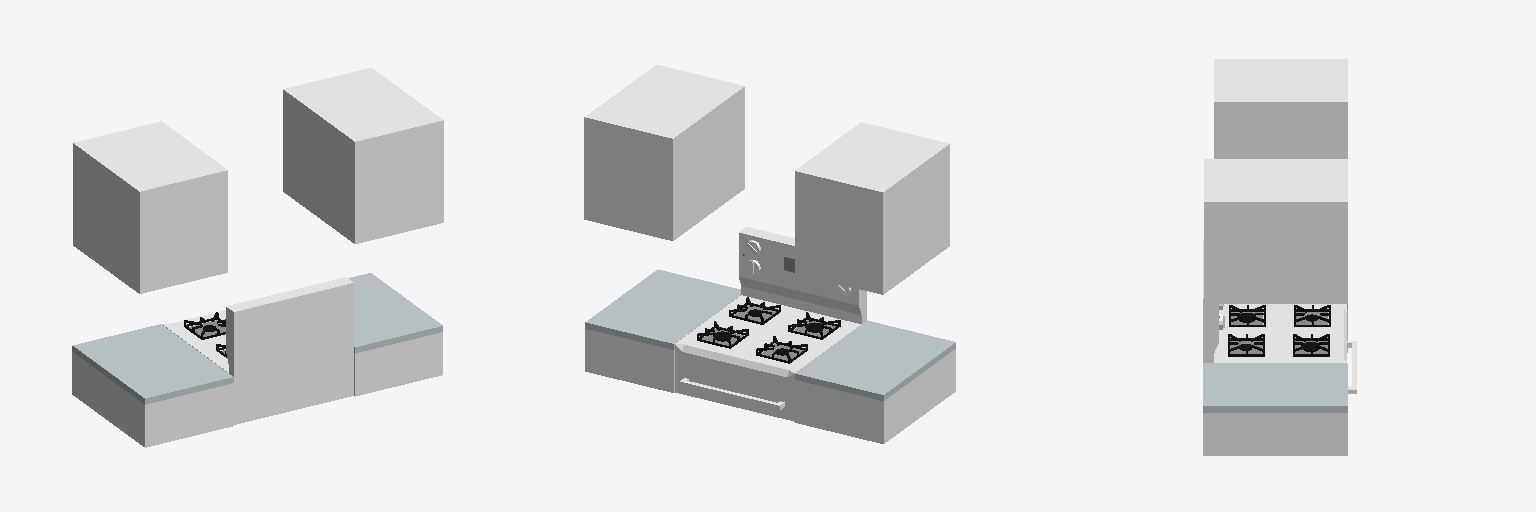
3 views of the same model, side by side, from view 1: azimuth 30°, elevation 25°; view 2: azimuth 150°, elevation 25°; view 3: azimuth 270°, elevation 25° (orthographic).
Parts seen in each view (by area): view 1: group[number redacted], group[number redacted], group[number redacted], group[number redacted], group[number redacted], group[number redacted]; view 2: group[number redacted], group[number redacted], group[number redacted], group[number redacted], group[number redacted], group[number redacted], group[number redacted]; view 3: group[number redacted], group[number redacted], group[number redacted], group[number redacted], group[number redacted].
Boxes of the visible parts, x1,y1,x2,y2 form: group[number redacted]: [283, 68, 443, 243]; group[number redacted]: [73, 121, 227, 293]; group[number redacted]: [226, 277, 353, 424]; group[number redacted]: [72, 324, 233, 447]; group[number redacted]: [348, 273, 442, 396]; group[number redacted]: [162, 310, 228, 372]; group[number redacted]: [584, 65, 744, 240]; group[number redacted]: [795, 122, 949, 294]; group[number redacted]: [795, 320, 955, 443]; group[number redacted]: [585, 269, 740, 392]; group[number redacted]: [675, 295, 861, 421]; group[number redacted]: [739, 227, 866, 323]; group[number redacted]: [684, 381, 776, 408]; group[number redacted]: [1204, 159, 1347, 303]; group[number redacted]: [1203, 363, 1347, 455]; group[number redacted]: [1214, 59, 1347, 158]; group[number redacted]: [1214, 304, 1346, 362]; group[number redacted]: [1203, 240, 1218, 362].
Bounding box in the file's own units: 3.88 × 3.15 × 1.74.